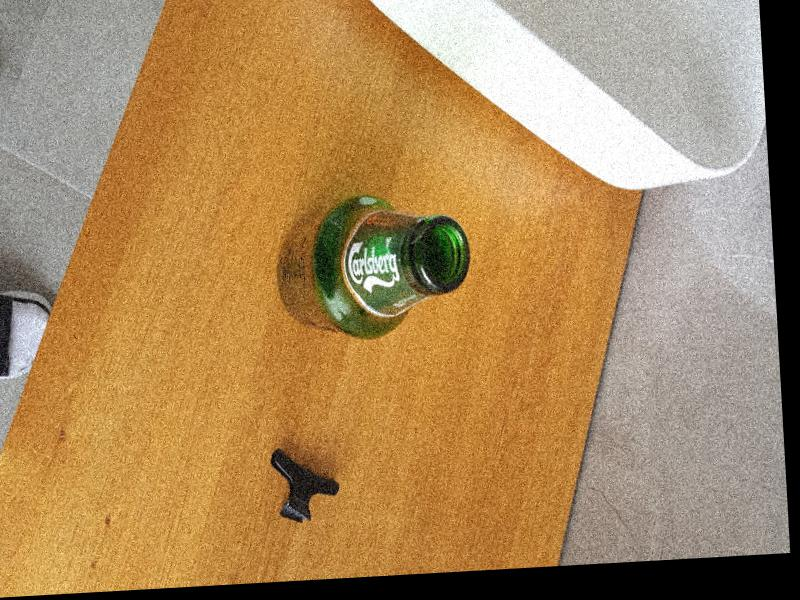Beer: (272, 187, 472, 344)
